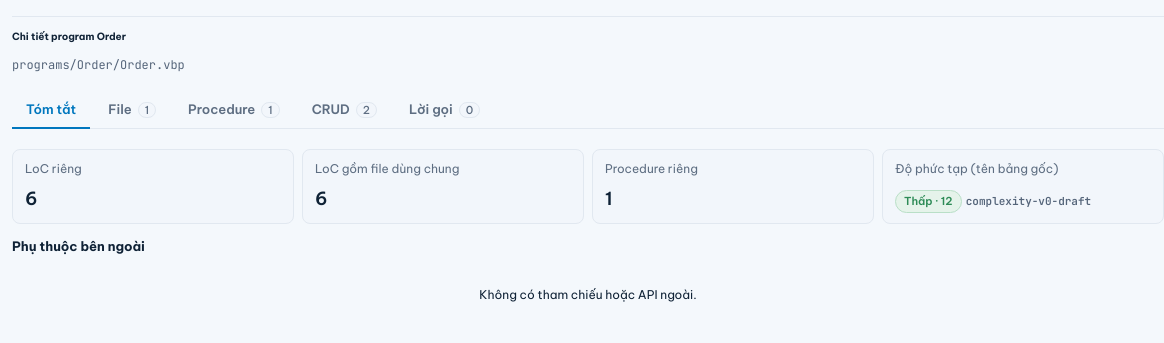
Test: Program detail (F04) › falls back to the names as written, labelled, when the mapped view is absent
The image size is (1164, 343).
Click the tab "CRUD2" at (344, 110), box [298,91,391,129]
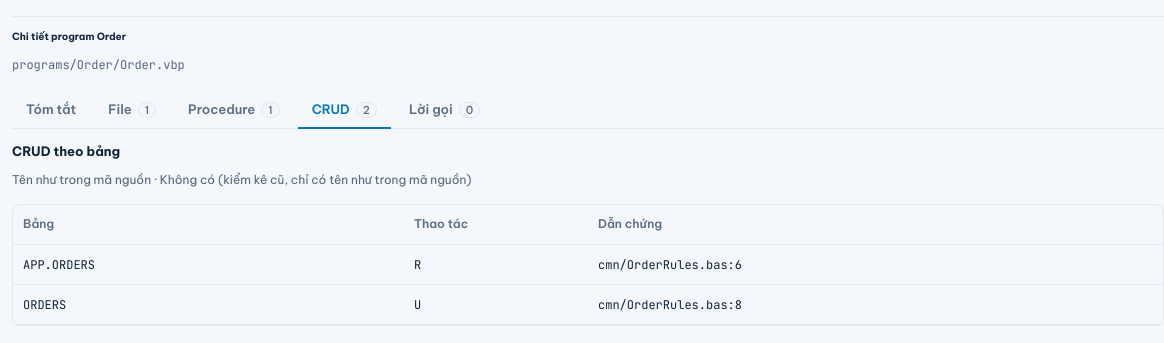
Result: the table with test id "crud-raw" is shown at [13,205,1163,325]
Result: the text "Không có (kiểm kê cũ" is shown at [160,172,472,187]
